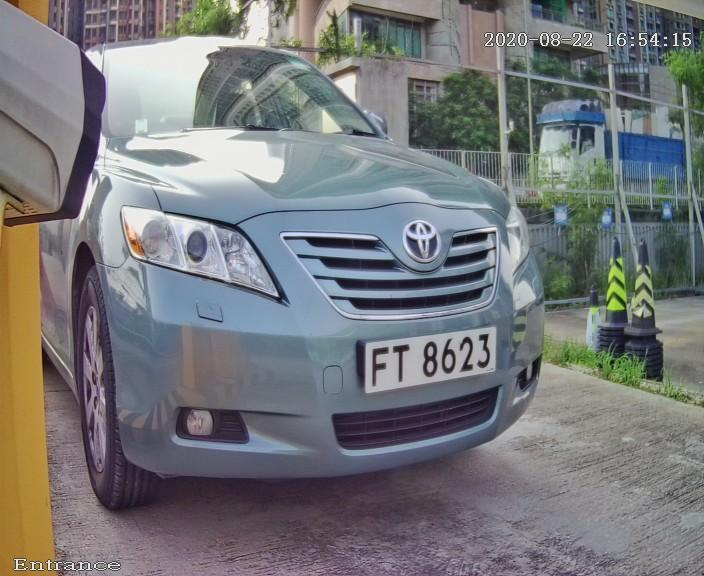Car: (19, 6, 604, 525)
License Plate: (353, 314, 507, 402)
